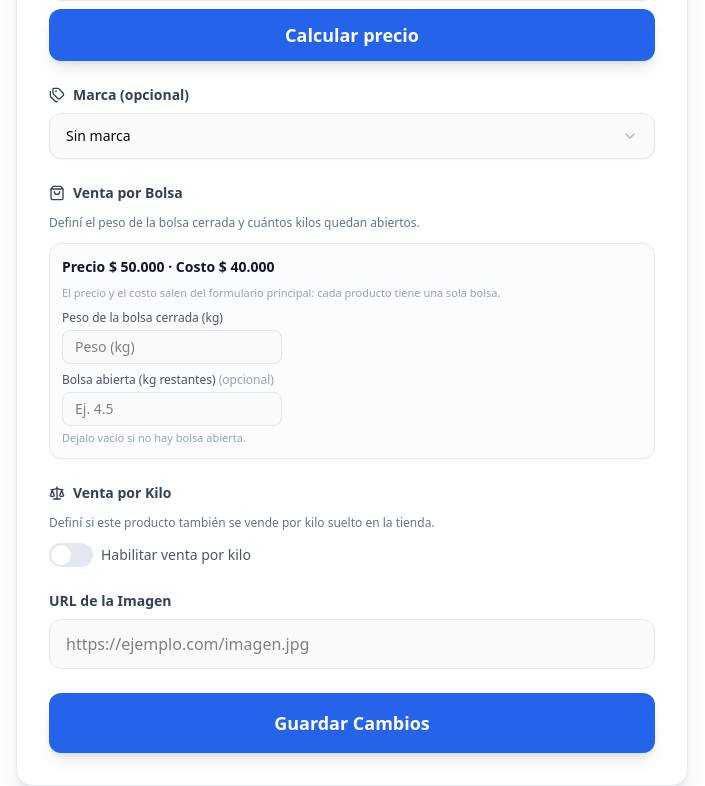
ProductForm (peso de bolsa obligatorio solo con la sección visible) › con la sección visible, sin peso no guarda y avisa
This screenshot has width=705, height=786.
(page scrolled)
Check: the text "Venta por Bolsa" is shown, box [49,183,183,202]
Click the button "Guardar Cambios" at (352, 723), box [49,693,655,753]
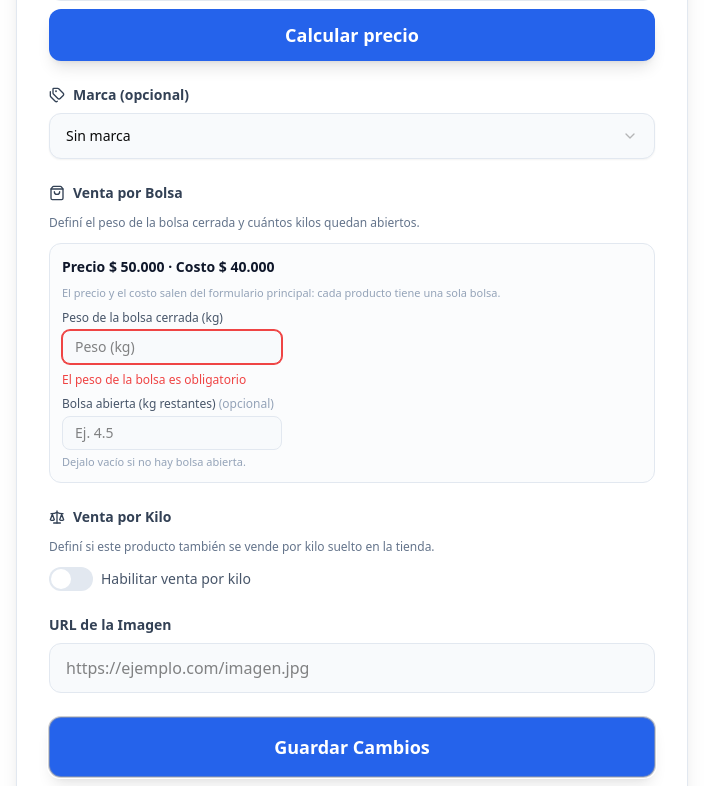
Check: the text "El peso de la bolsa es obligatorio" is shown, box [62,370,246,388]
